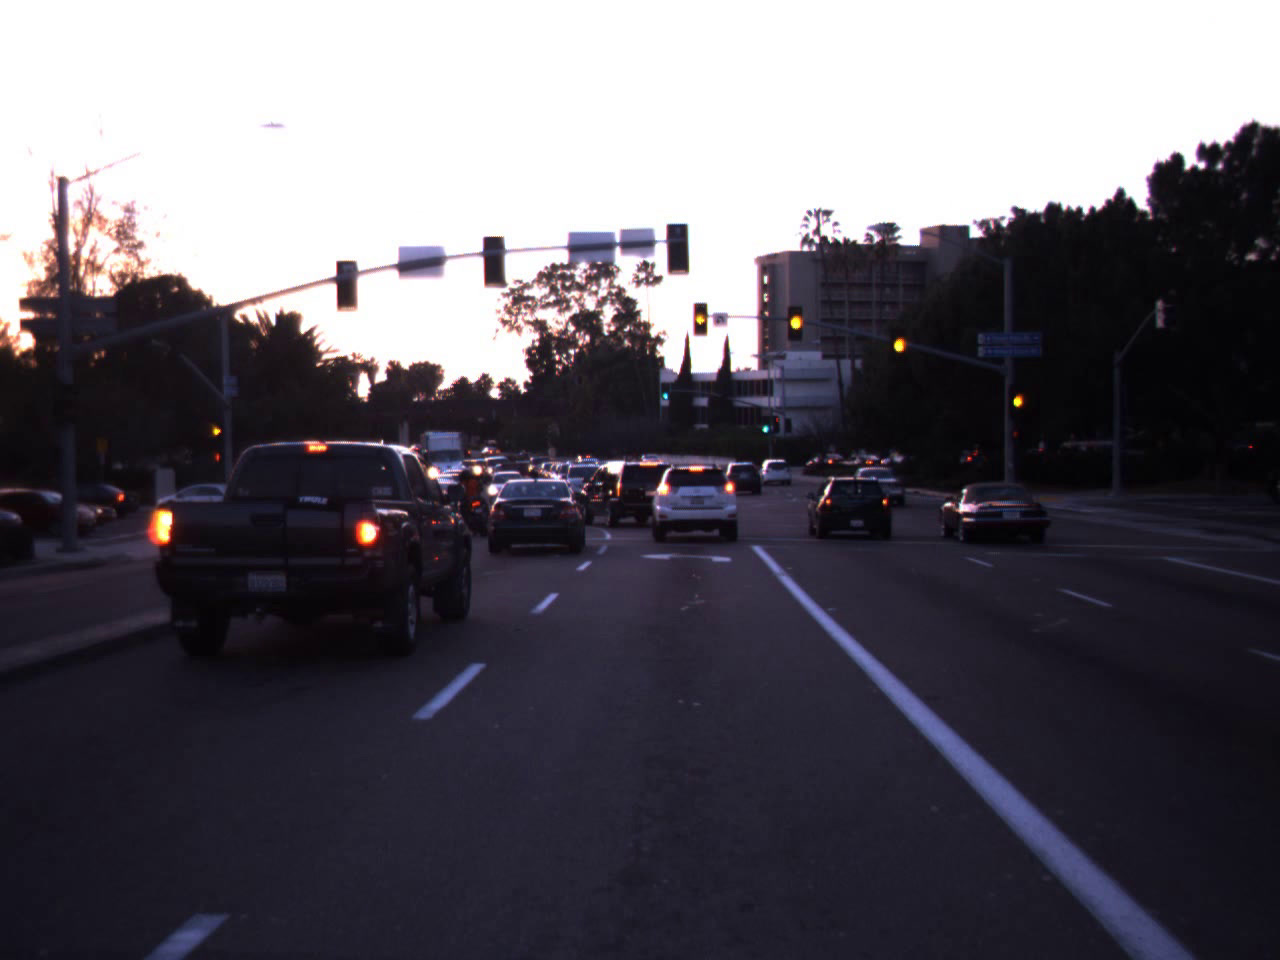go: (760, 405, 772, 435), (659, 376, 671, 401)
warning: (877, 303, 919, 379), (780, 292, 813, 346), (1006, 379, 1030, 419), (688, 292, 709, 341), (208, 414, 226, 445)
